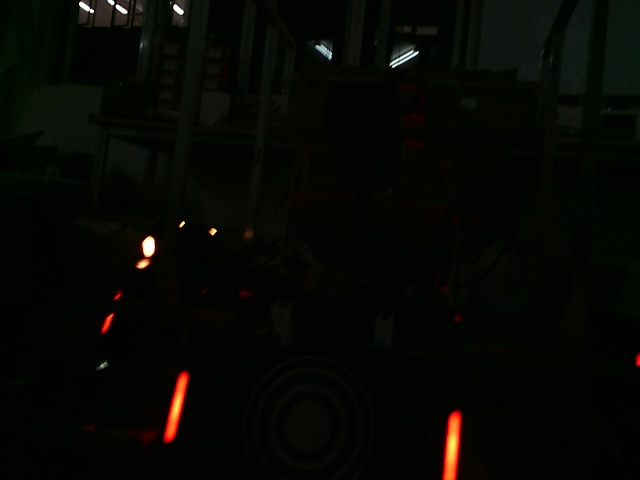lamp: (159, 370, 189, 442)
